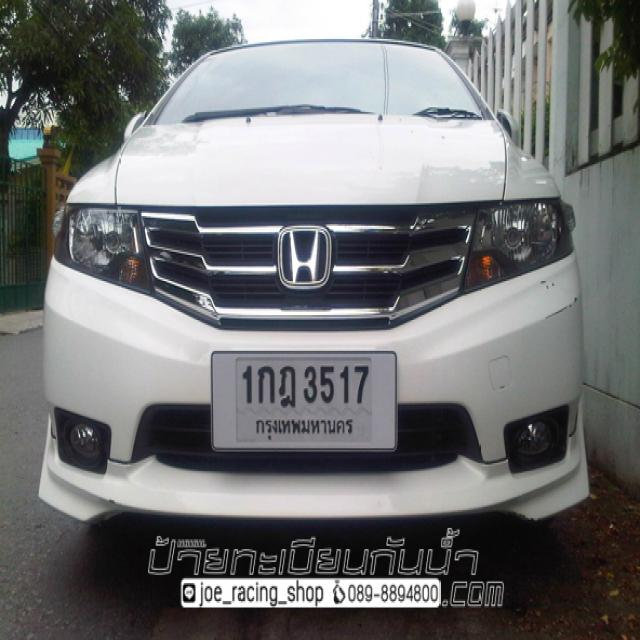license_plate: (209, 345, 402, 459)
